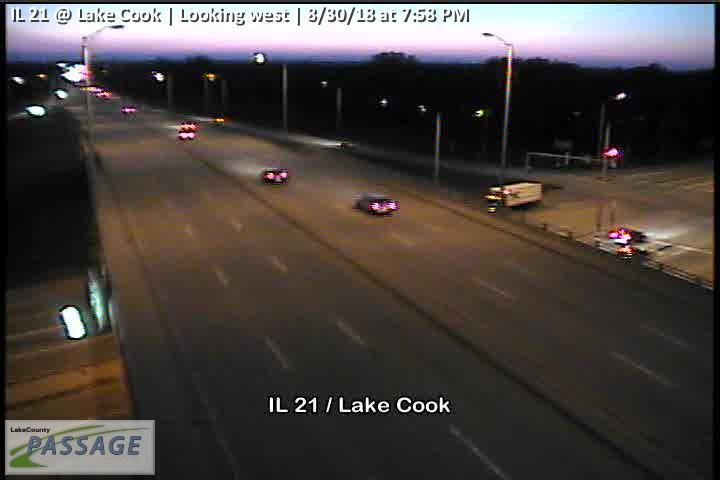Truck: (483, 180, 542, 214)
